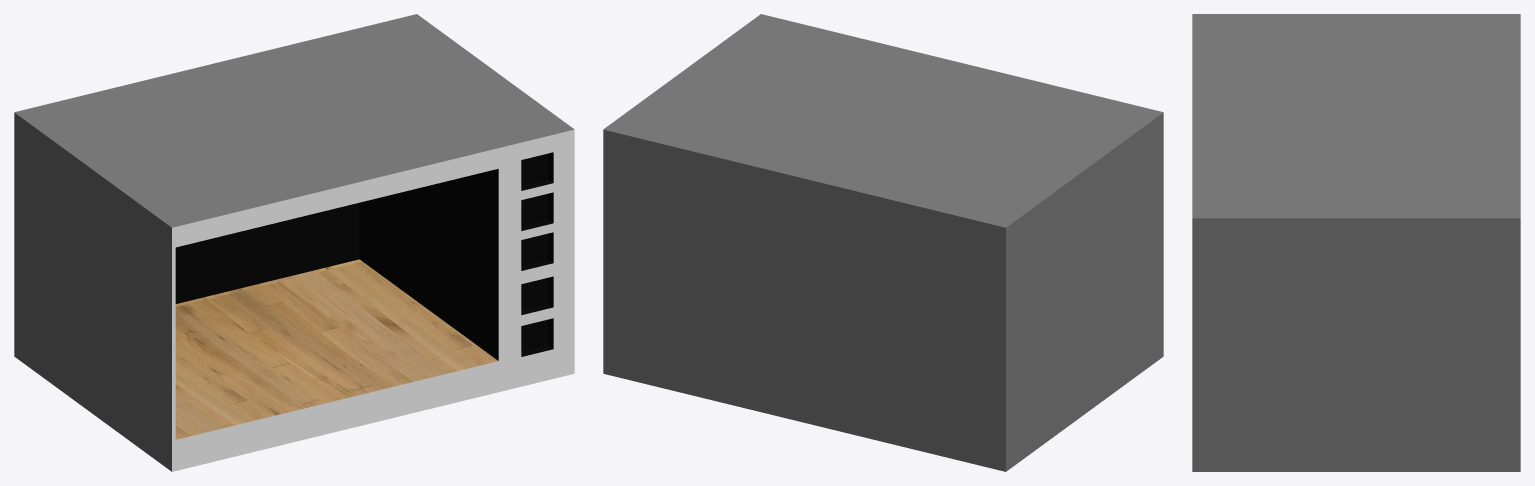
Rendered from theater.obj.
3 views of the same model, side by side, from view 1: azimuth 30°, elevation 25°; view 2: azimuth 150°, elevation 25°; view 3: azimuth 270°, elevation 25° (orthographic). The views are drawn at different scales.
Parts seen in each view (by area): view 1: theater:pCube10group1 group; view 2: theater:pCube10group1 group; view 3: theater:pCube10group1 group.
Part boxes in pixels (box(x1,y1,x2,y2)): theater:pCube10group1 group: box(14, 14, 574, 471); theater:pCube10group1 group: box(603, 14, 1163, 471); theater:pCube10group1 group: box(1192, 14, 1520, 471).
Bounding box in the file's own units: 159 × 92.14 × 108.
Materials: 4 (1 with a texture image).
